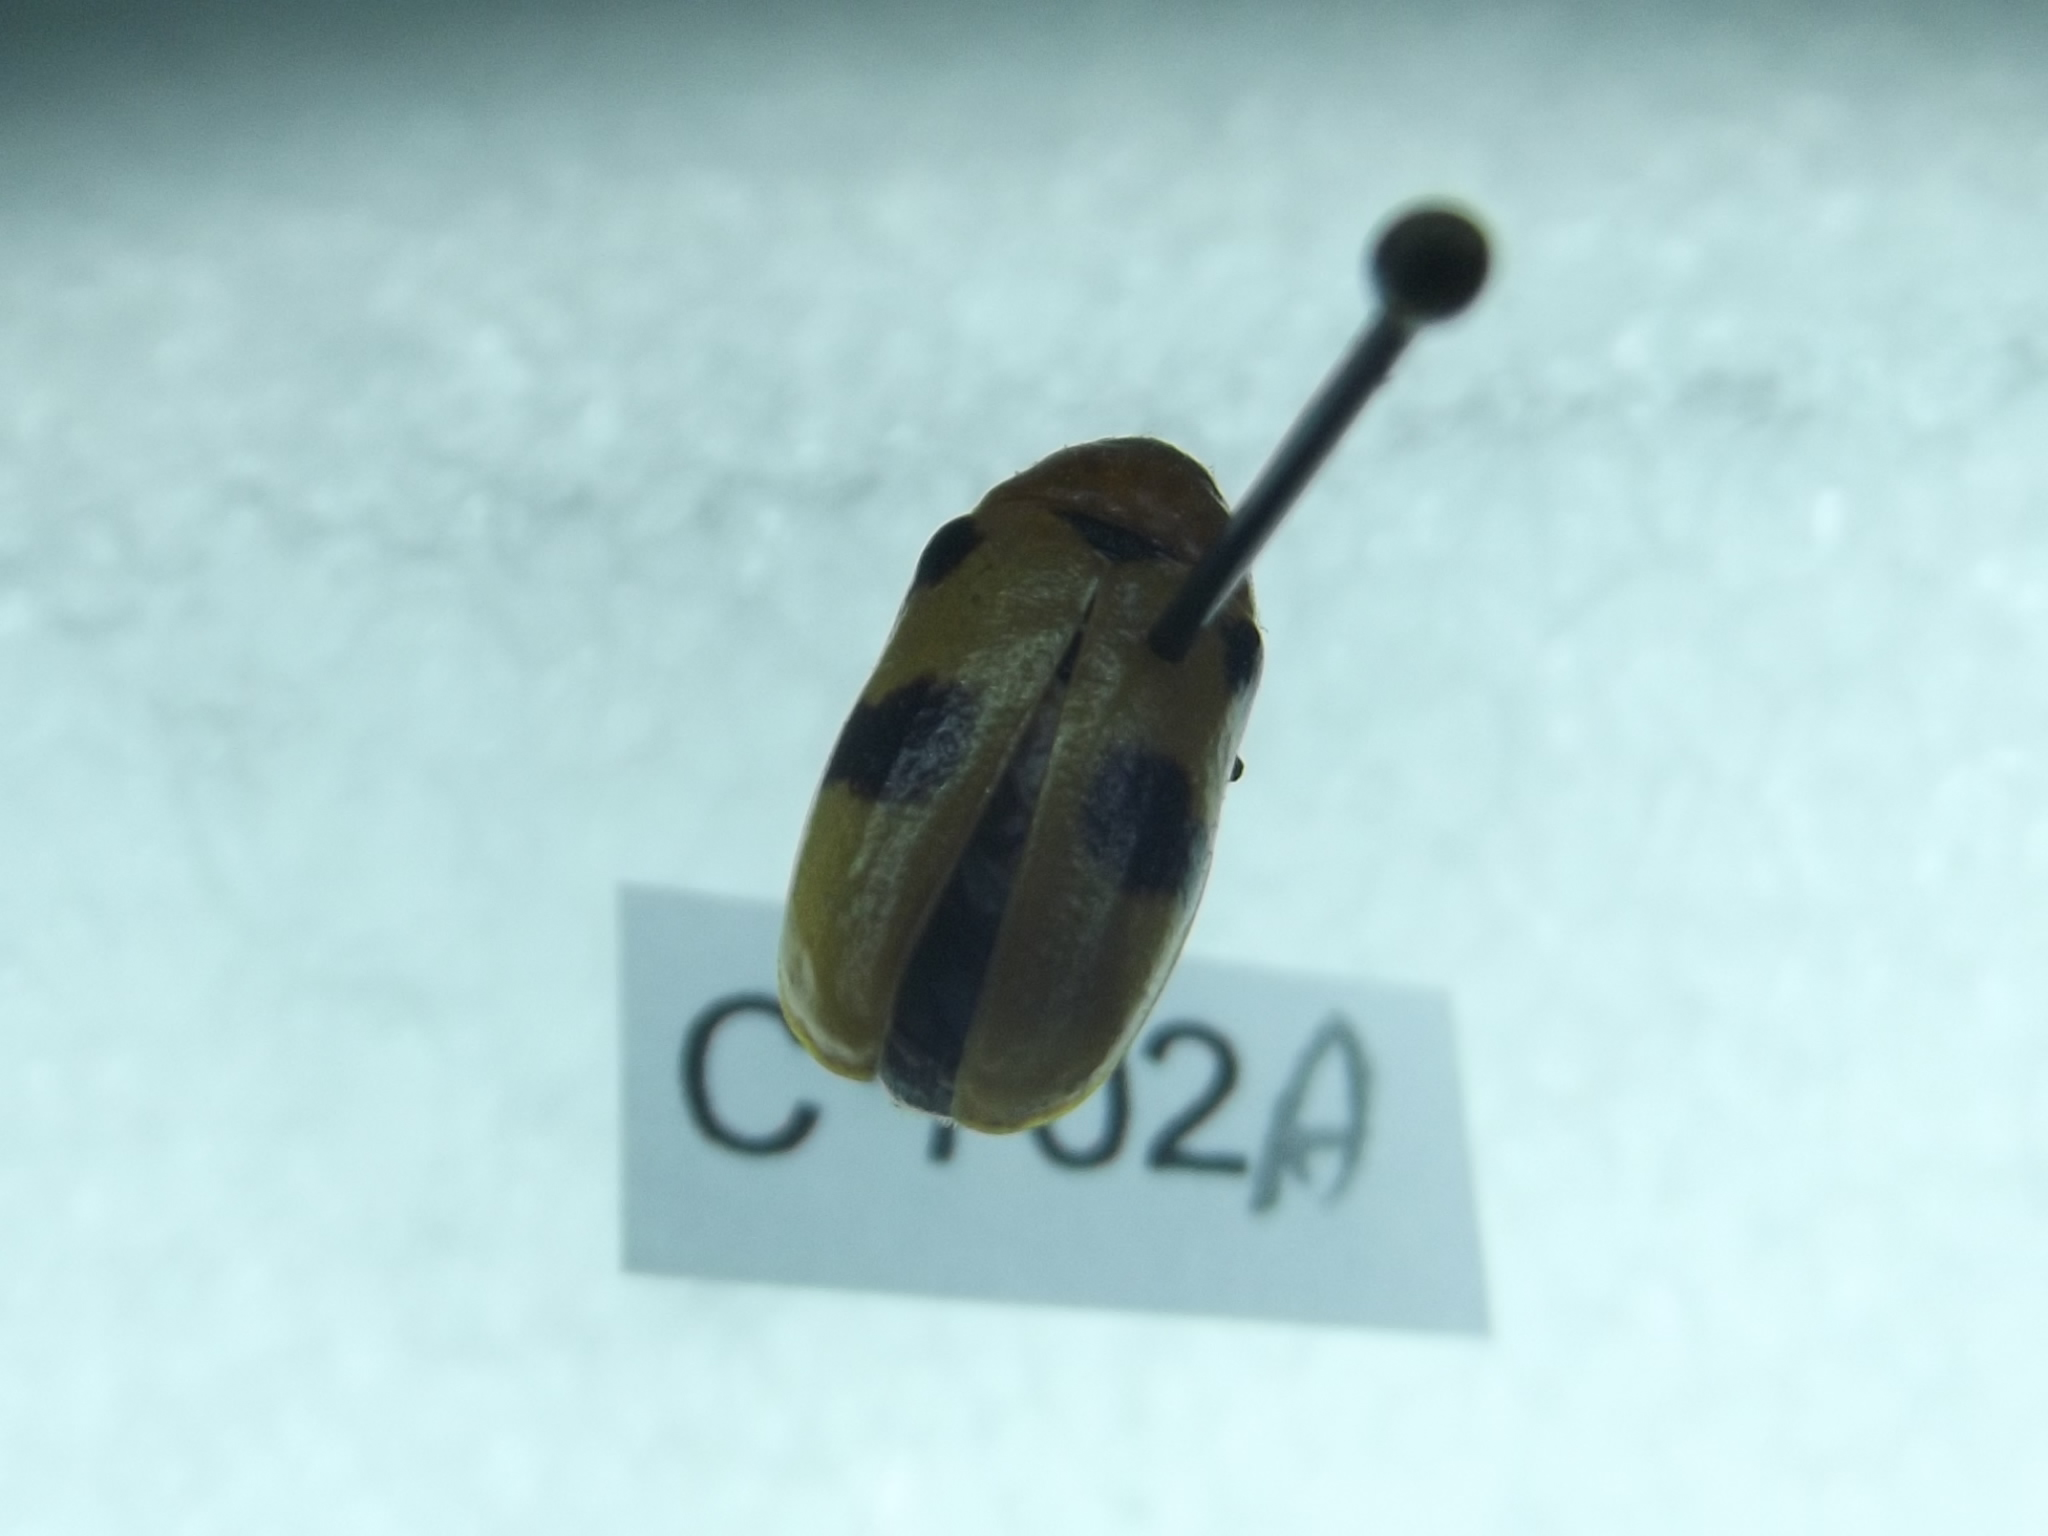Tituboea_macropus: (760, 431, 1276, 1155)
